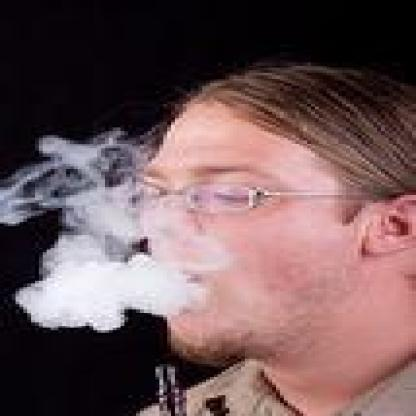smoke: (0, 136, 219, 334)
